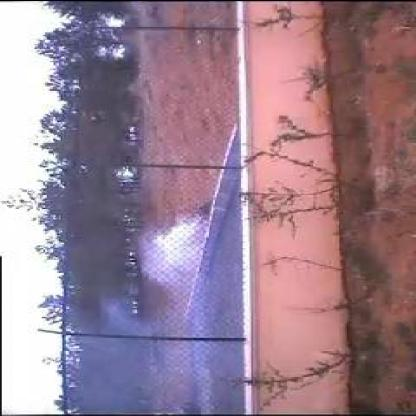-: (111, 209, 239, 340)
